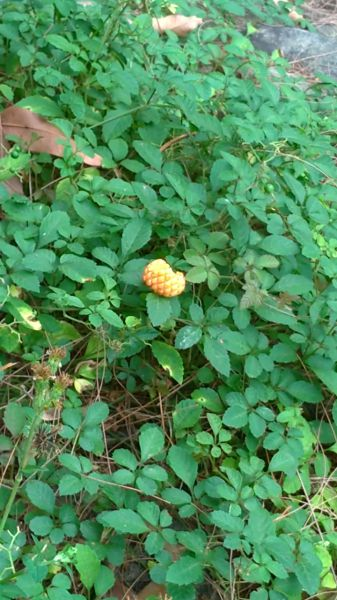eggs: (140, 252, 188, 299)
